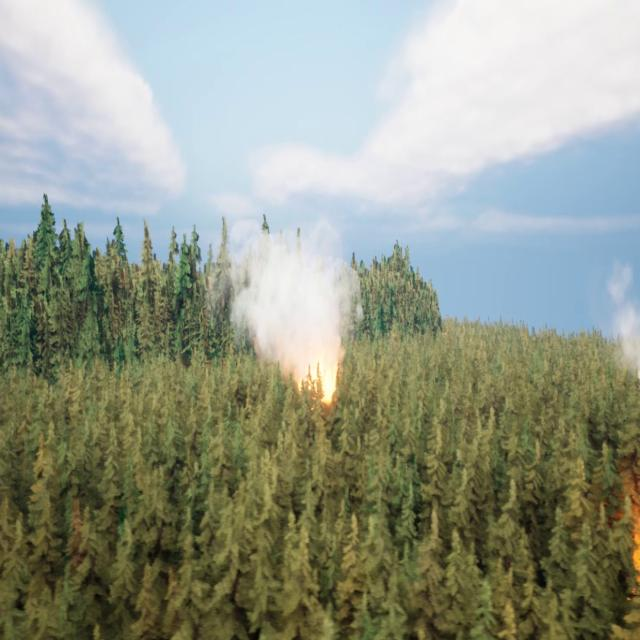fire: (308, 354, 343, 409)
smoke: (221, 212, 367, 402), (610, 253, 640, 373)
